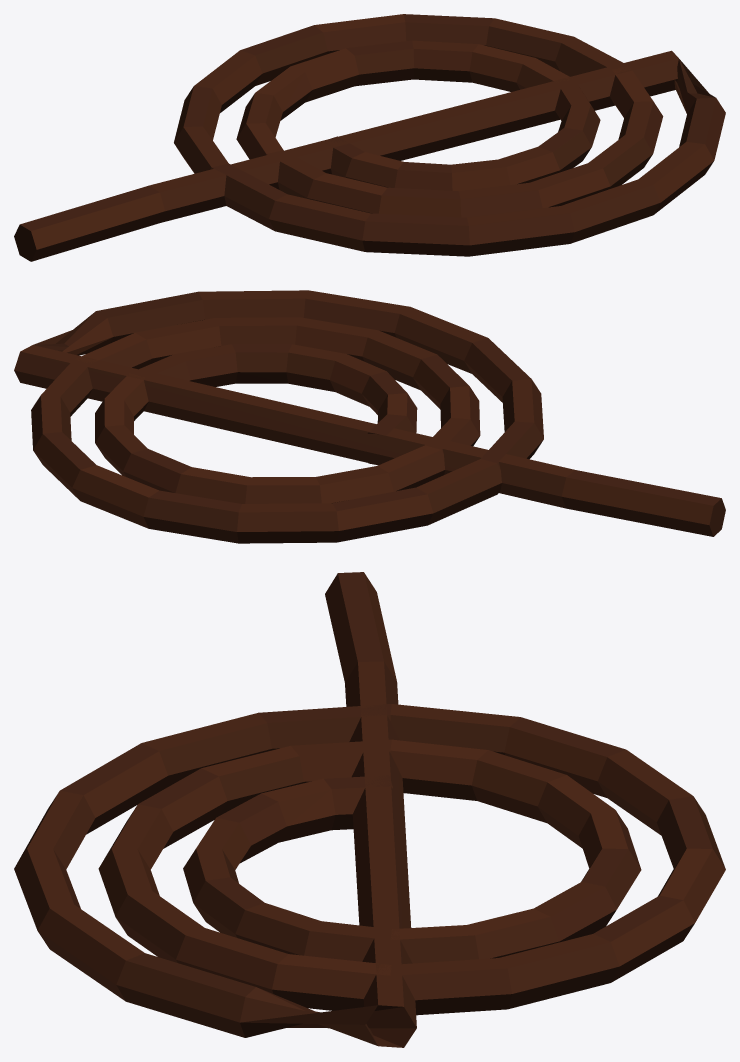
File: D41_Rope_Coil.fbx
The picture shows the model from 3 angles, top to bottom: view 1: azimuth 30°, elevation 25°; view 2: azimuth 150°, elevation 25°; view 3: azimuth 270°, elevation 25°; orthographic projection. The views are drawn at different scales.
Parts seen in each view (by area): view 1: D41_Rope_Coil; view 2: D41_Rope_Coil; view 3: D41_Rope_Coil.
Boxes of the visible parts, x1=… form: D41_Rope_Coil: x1=14, y1=14, x2=725, y2=261; D41_Rope_Coil: x1=14, y1=290, x2=725, y2=543; D41_Rope_Coil: x1=14, y1=572, x2=725, y2=1047.
Size of the model in its own units: 1.03 by 0.045 by 0.708.
1 material, 1 textured.
